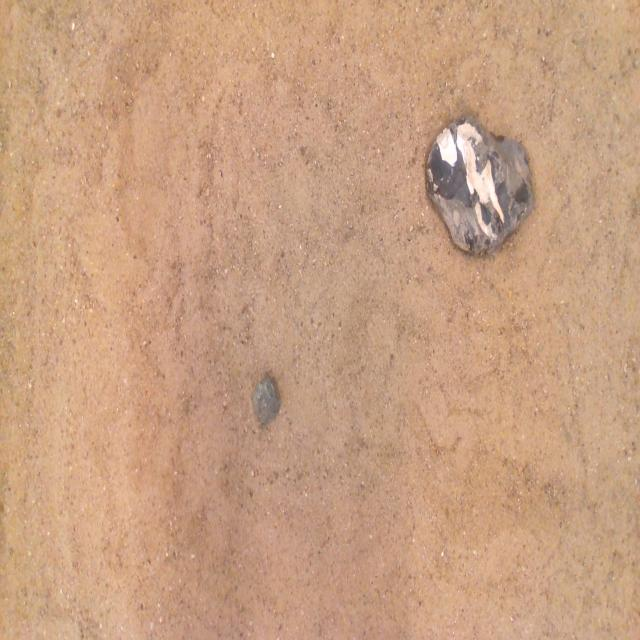rock: (426, 118, 532, 254), (252, 375, 280, 425)
